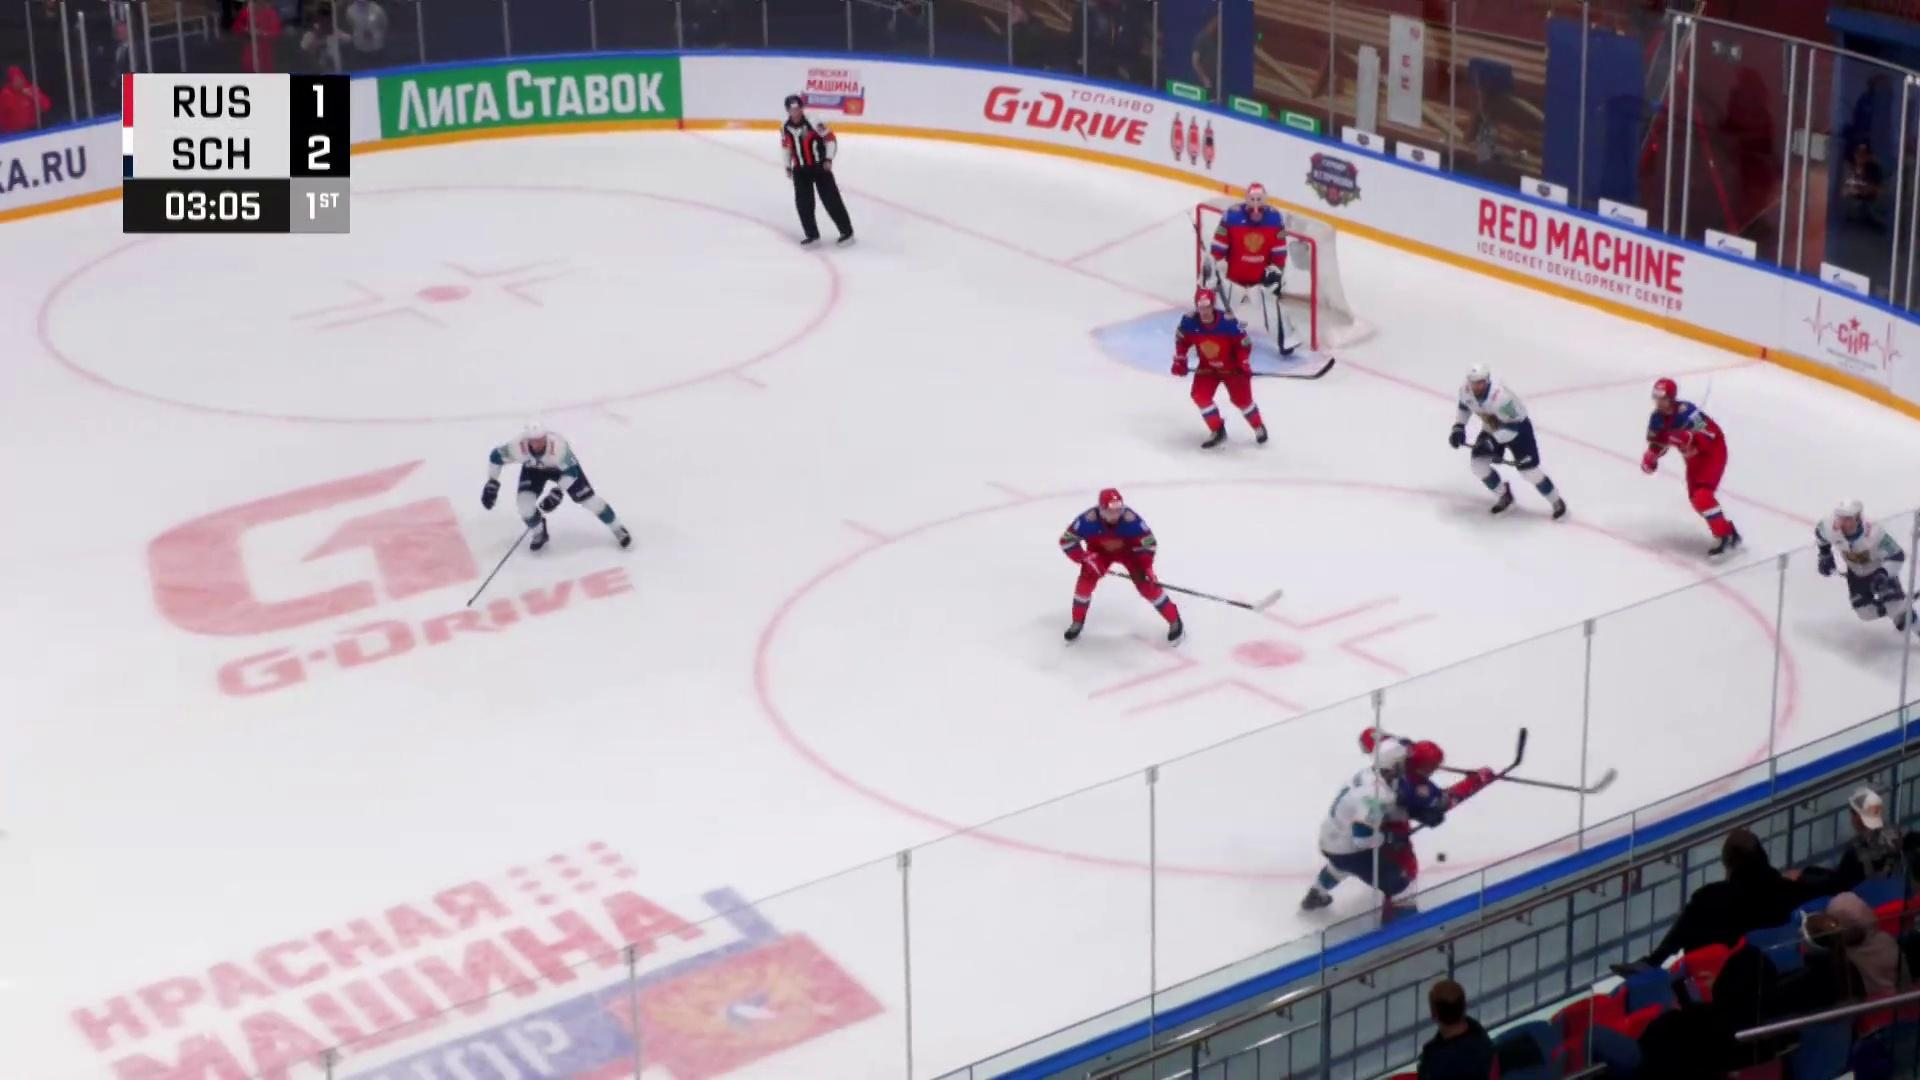ball: (1436, 852, 1448, 862)
